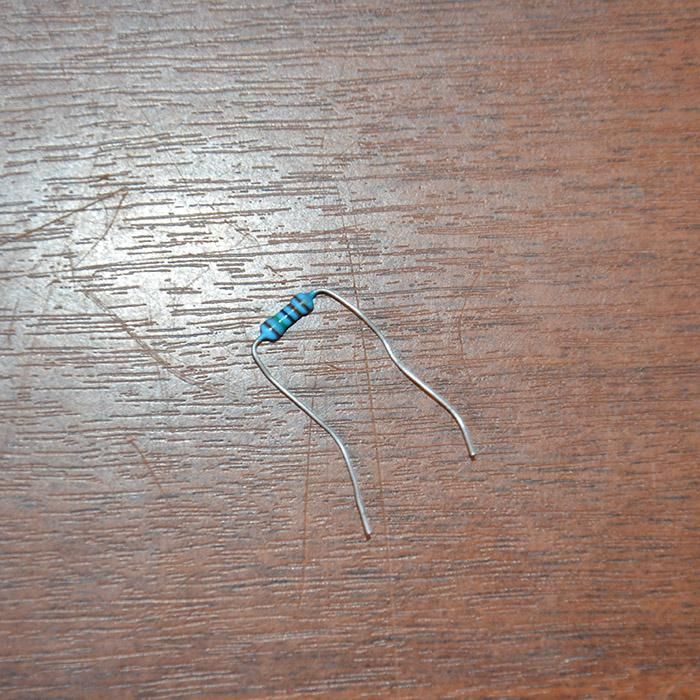resistor: (257, 290, 317, 343)
